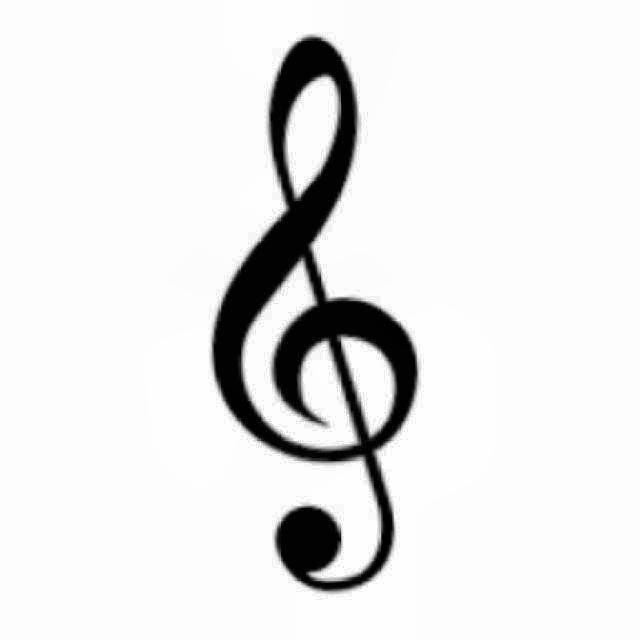Treble-clef: (199, 26, 423, 600)
